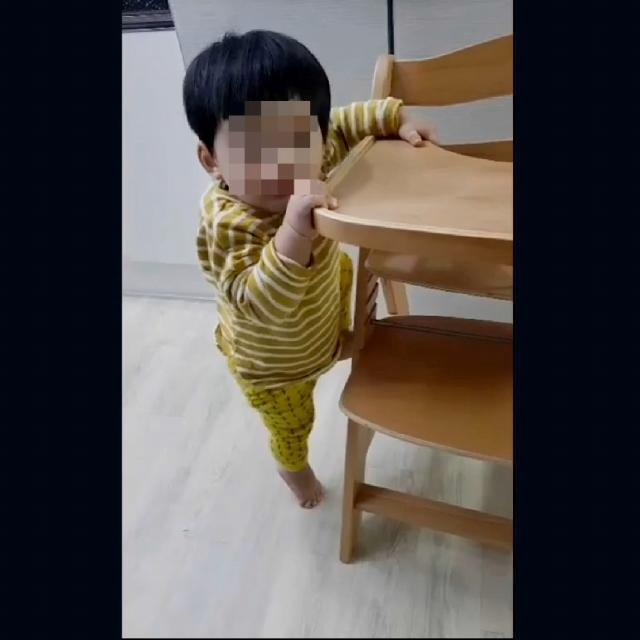child: (185, 26, 425, 513)
